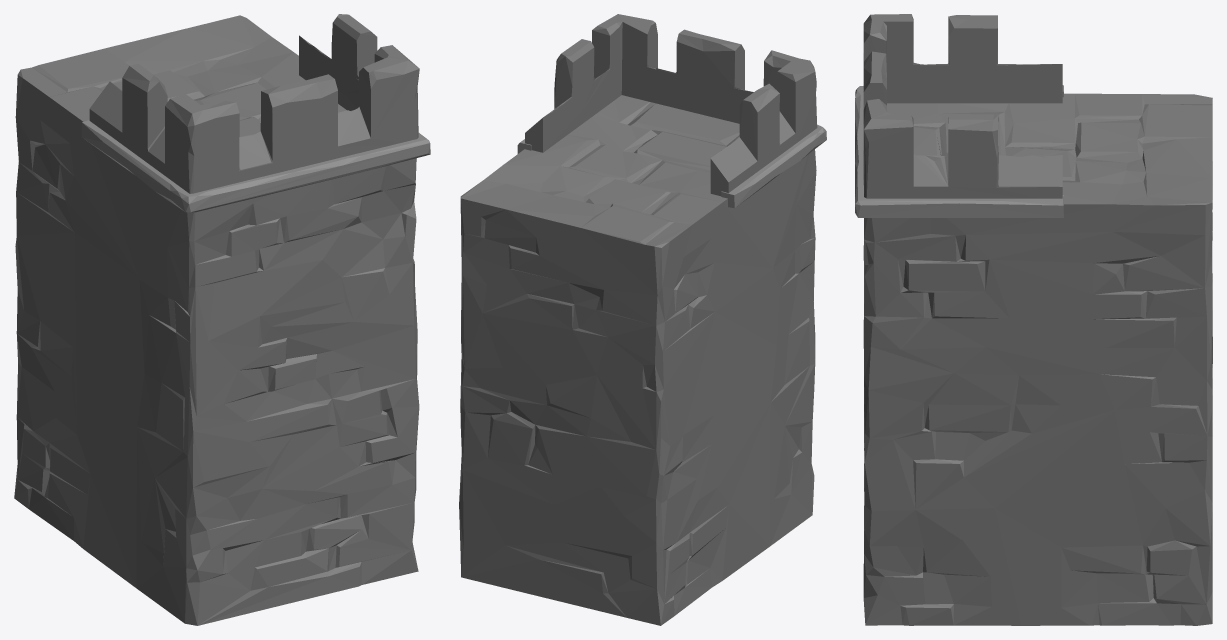
Rendered from castle_battlement_corner_a.FBX.
3 renders of one model, left to right at view 1: azimuth 30°, elevation 25°; view 2: azimuth 150°, elevation 25°; view 3: azimuth 270°, elevation 25°, orthographic. The views are drawn at different scales.
Parts seen in each view (by area): view 1: castle_battlement_corner_a; view 2: castle_battlement_corner_a; view 3: castle_battlement_corner_a.
Part boxes in pixels (x1,y1,x2,y2): castle_battlement_corner_a: (14,14,430,625); castle_battlement_corner_a: (459,14,826,625); castle_battlement_corner_a: (855,14,1212,625).
Size of the model in its own units: 4.8 by 9.57 by 6.15.
